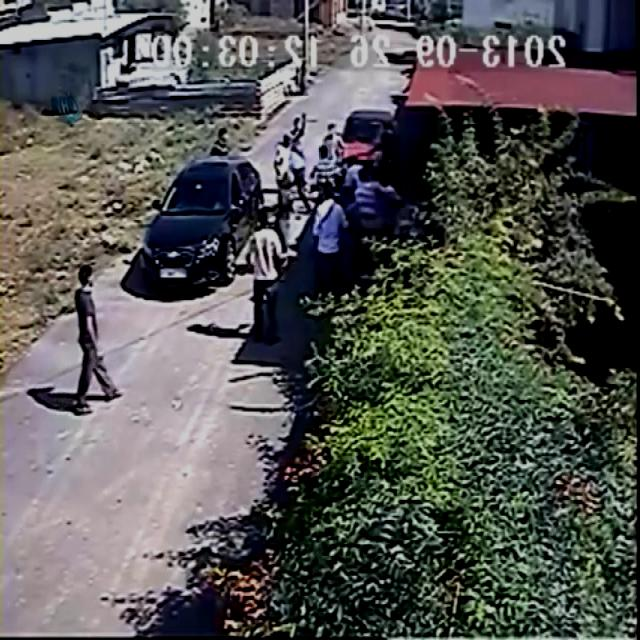fight: (299, 102, 382, 258)
